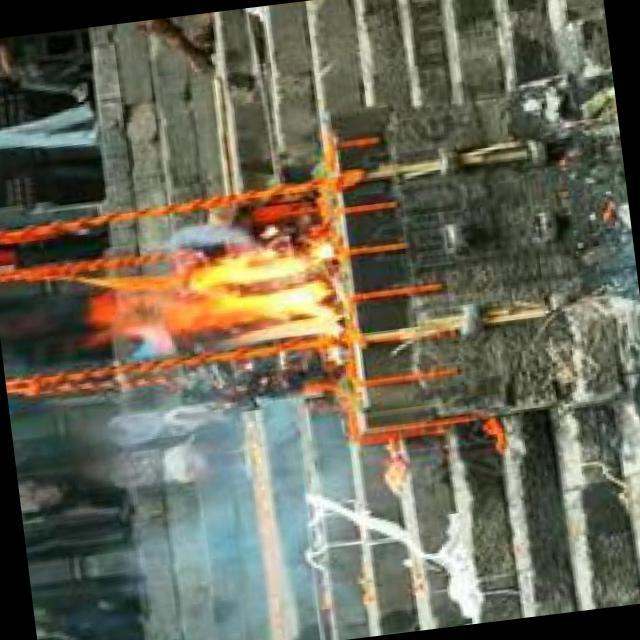Fire: (84, 231, 350, 375)
